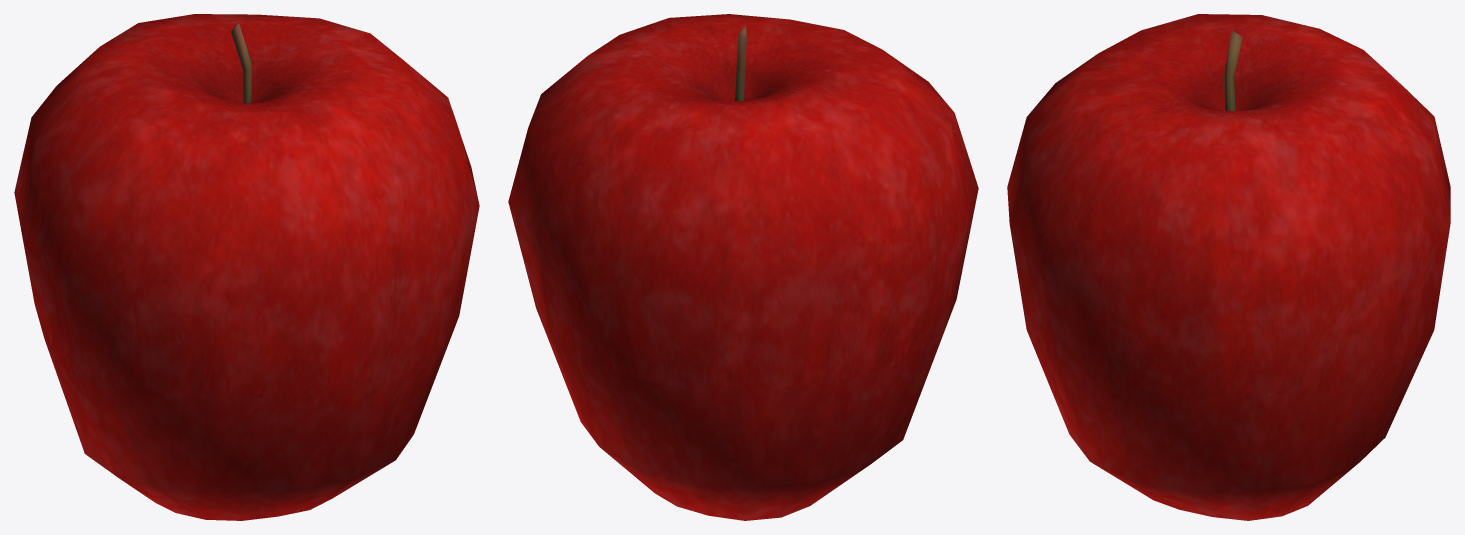
File: Apple_1.obj
3 views of the same model, side by side, from view 1: azimuth 30°, elevation 25°; view 2: azimuth 150°, elevation 25°; view 3: azimuth 270°, elevation 25° (orthographic). The views are drawn at different scales.
Parts seen in each view (by area): view 1: apple_a1; view 2: apple_a1; view 3: apple_a1.
Part boxes in pixels (bbox=[...]): apple_a1: bbox=[14, 14, 479, 520]; apple_a1: bbox=[508, 14, 978, 520]; apple_a1: bbox=[1007, 14, 1450, 520].
Size of the model in its own units: 0.0988 by 0.1088 by 0.0959.
